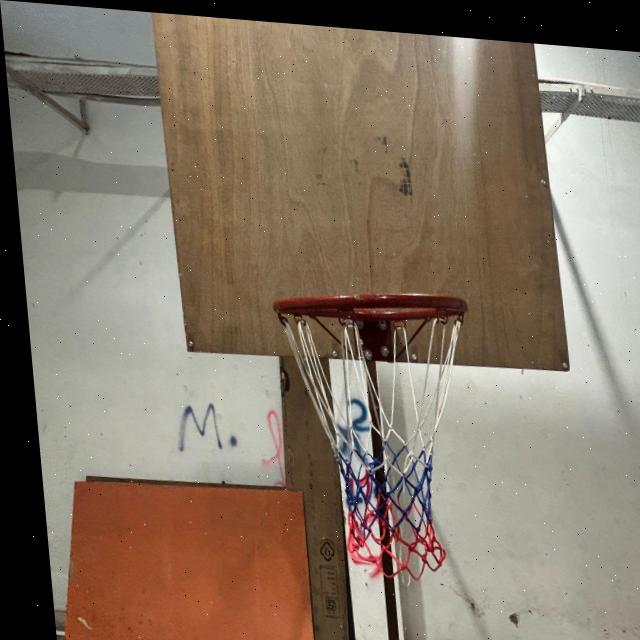hoop: (260, 273, 498, 602)
